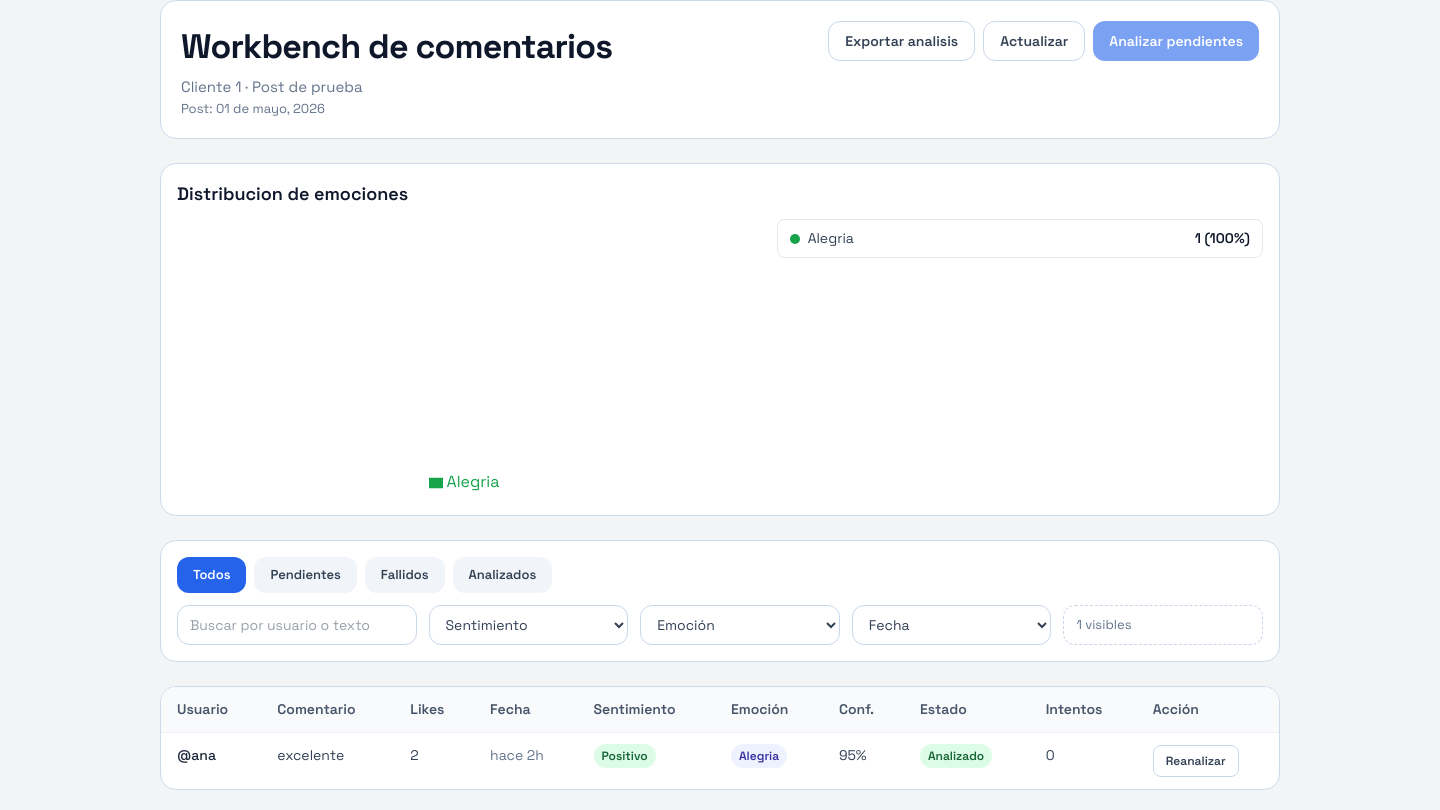
CommentAnalysisTable export › abre modal de exportacion
The image size is (1440, 810).
Click the button "Exportar analisis".
click(902, 41)  # box 828,21 -> 975,61
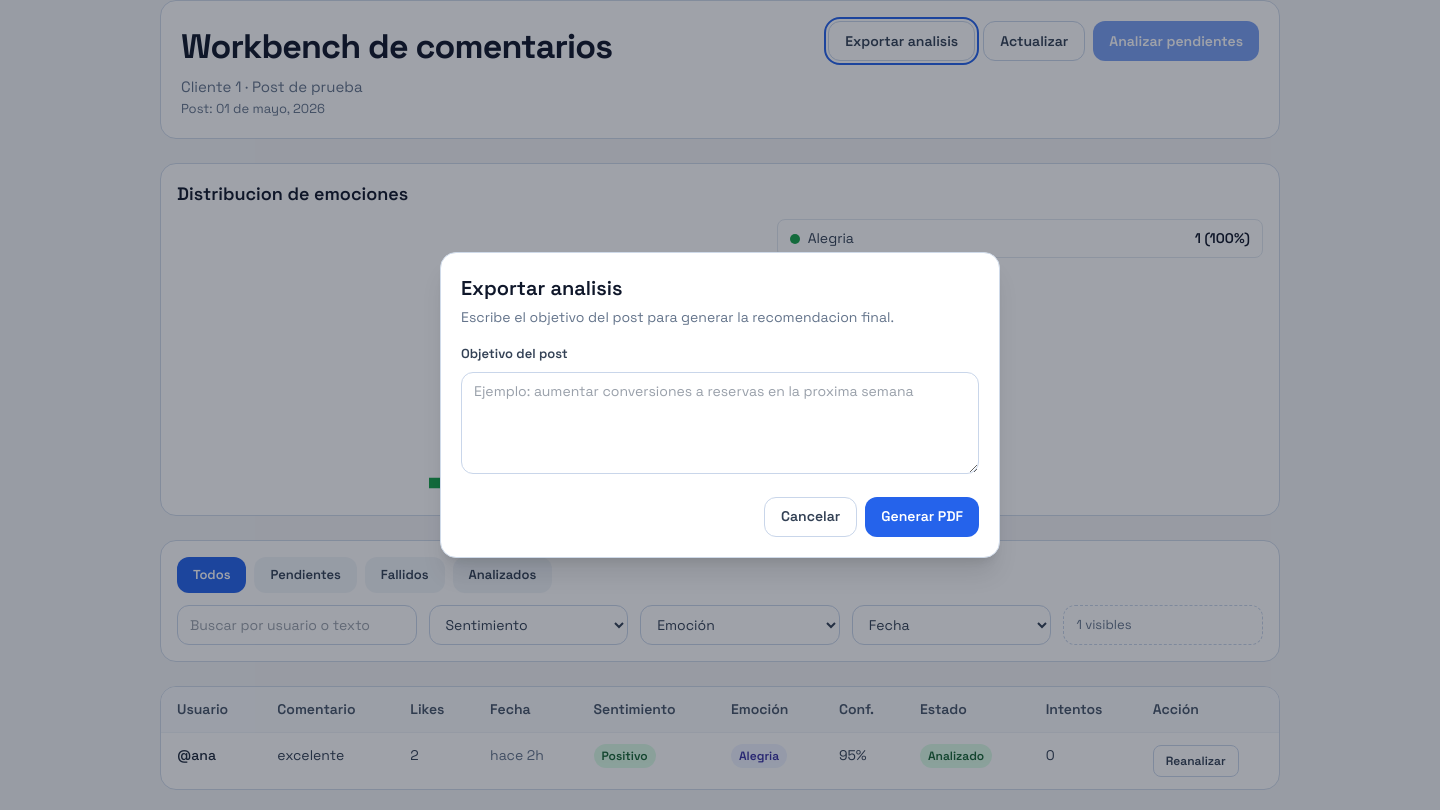
Result: the text "Objetivo del post" is shown at 461,345 -> 568,362
